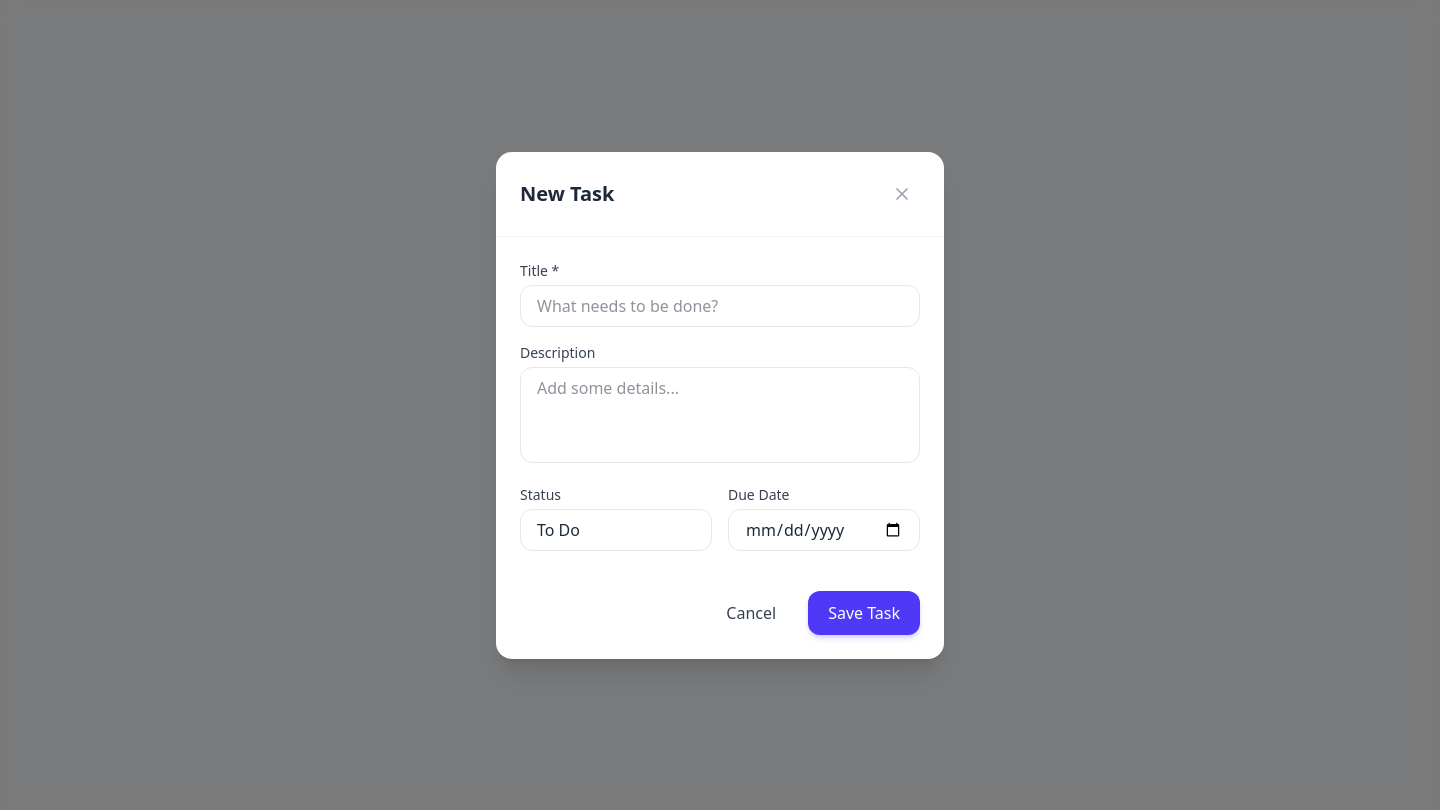
TaskForm › requires title fields and restricts blank submission
Step 1. Click the button "Save Task" → {"x": 864, "y": 612}, box [808,590,920,634]
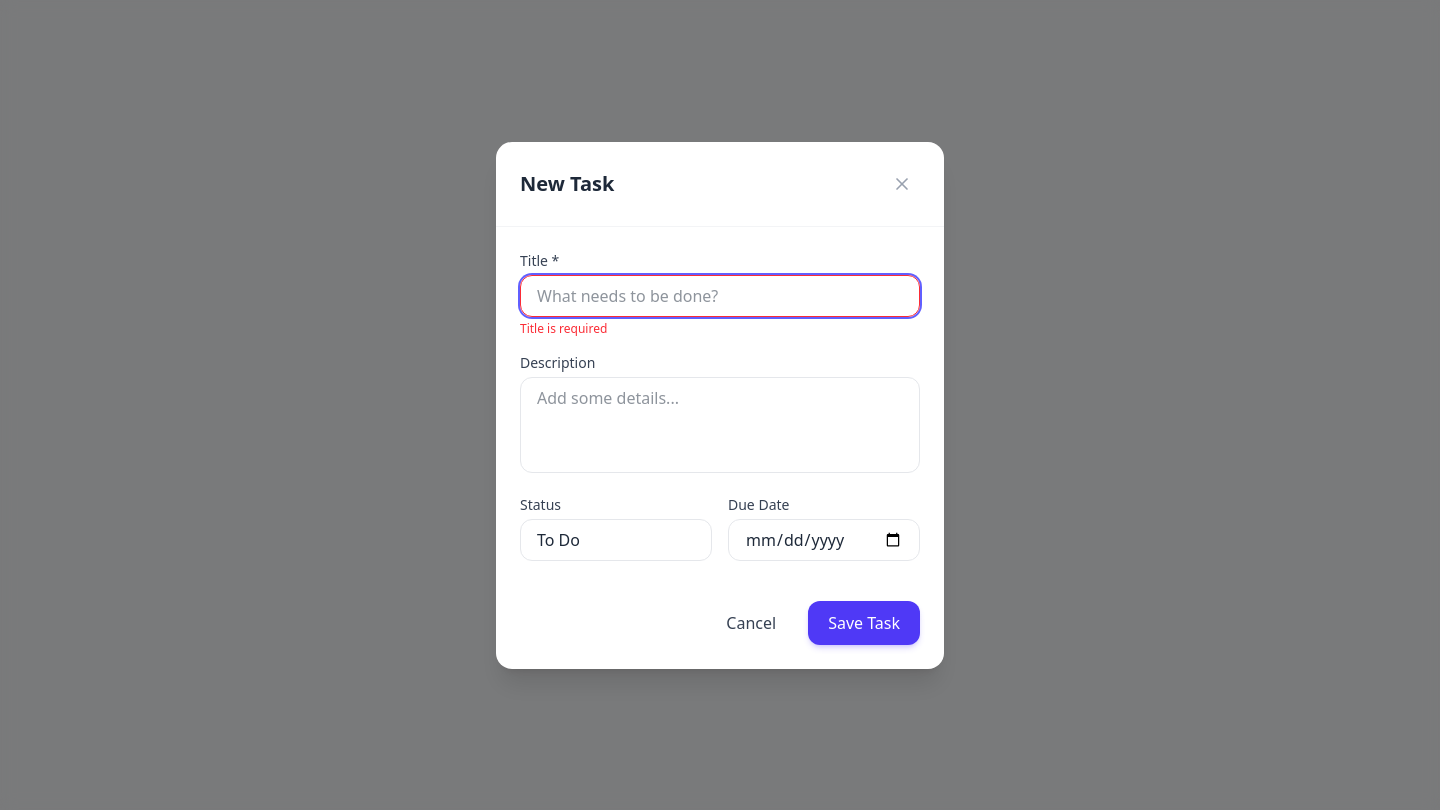
Expected: the text "Title is required" is shown, [520,320,607,336]
